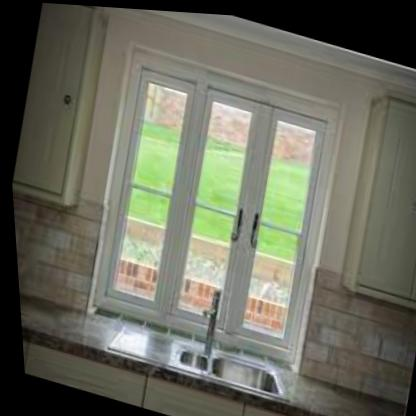Window: (72, 34, 351, 362)
